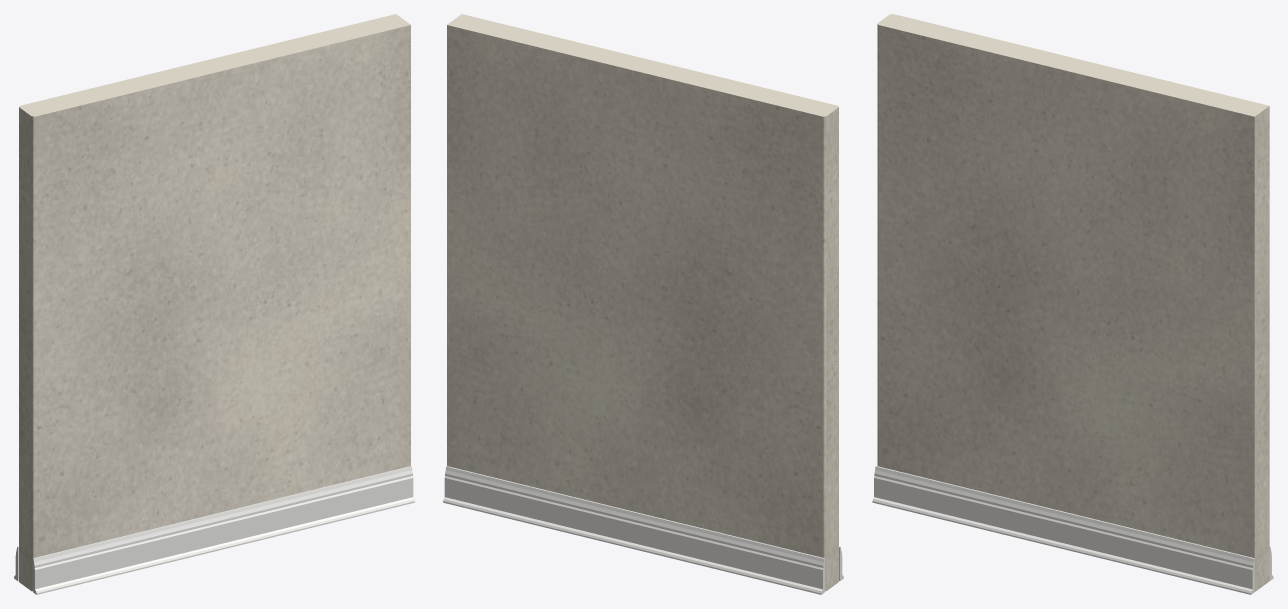
The model's file is attic_wall_end.glb.
3 views of the same model, side by side, from view 1: azimuth 30°, elevation 25°; view 2: azimuth 150°, elevation 25°; view 3: azimuth 330°, elevation 25° (orthographic).
Parts seen in each view (by area): view 1: attic_wall_end_plaster, molduras; view 2: attic_wall_end_plaster, molduras; view 3: attic_wall_end_plaster, molduras.
Boxes of the visible parts, bbox=[...] form: attic_wall_end_plaster: bbox=[19, 14, 410, 591]; molduras: bbox=[14, 466, 414, 594]; attic_wall_end_plaster: bbox=[447, 14, 838, 591]; molduras: bbox=[443, 466, 843, 594]; attic_wall_end_plaster: bbox=[877, 14, 1269, 591]; molduras: bbox=[872, 466, 1273, 594].
Bounding box in the file's own units: 1.75 × 2.1 × 0.18.
2 materials, 1 textured.
